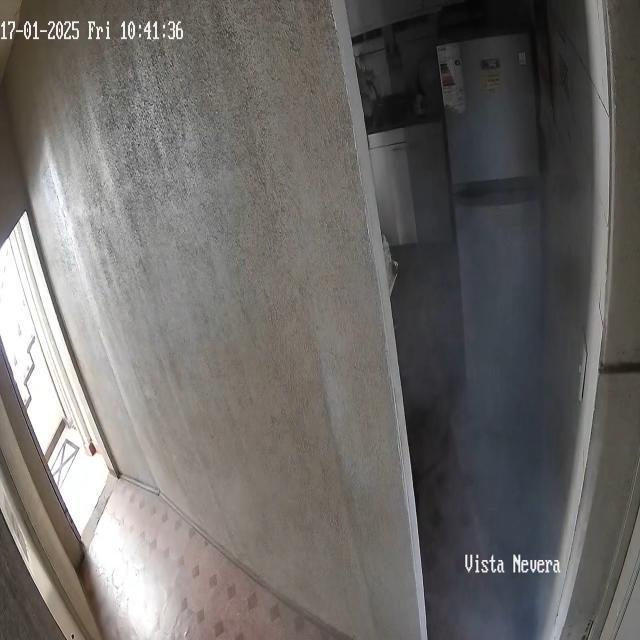fire: (397, 111, 576, 639)
